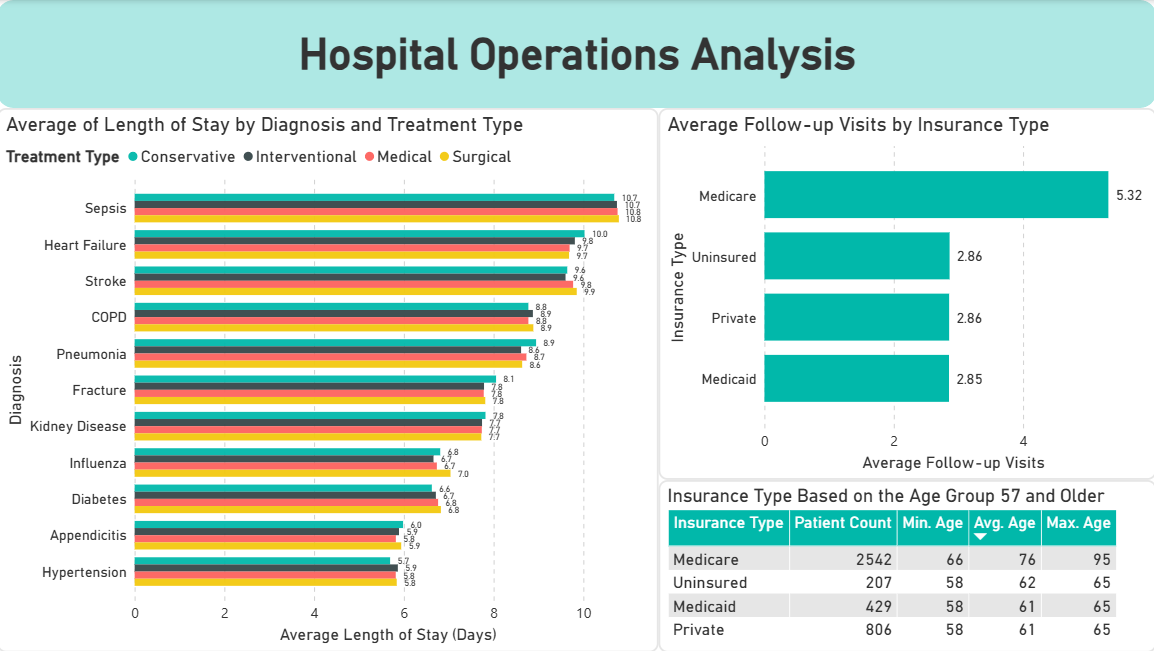

What the dashboard file says about the page in this screenshot:
{"tool":"powerbi","page":{"name":"Operational Analysis","canvas":[1280,720],"ordinal":2},"visuals":[{"type":"clusteredBarChart","title":"Average of Length of Stay by Diagnosis and Treatment Type","fields":{"Category":["ascend_quick_project hospital_data.primary_diagnosis"],"Y":["Avg(ascend_quick_project hospital_data.length_of_stay)"],"Series":["ascend_quick_project hospital_data.treatment_type"]},"box":[0,119.3,730.5,601.3],"z":0},{"type":"clusteredBarChart","title":"Average Follow-up Visits by Insurance Type","fields":{"Category":["ascend_quick_project hospital_data.insurance_type"],"Y":["Avg(ascend_quick_project hospital_data.followup_visits_last_year)"]},"box":[730.5,119.3,550,410.8],"z":1000},{"type":"tableEx","title":"Insurance Type Based on the Age Group 57 and Older","fields":{"Values":["insurance type ages.insurance_type","insurance type ages.patient_count","insurance type ages.min_age","insurance type ages.avg_age","insurance type ages.max_age"]},"box":[730.5,530.1,550,190.5],"z":2000},{"type":"shape","box":[0,0,1280.5,119.3],"z":3000},{"type":"textbox","box":[114.3,26.5,1053.5,66.3],"z":4000}]}

Visuals, with their boxes in screenshot pixels (x1, y1, x2, y2), scaled from the page's 1280x720 canvas onto the 1154x651 screenshot:
"Average of Length of Stay by Diagnosis and Treatment Type" clusteredBarChart: [x1=0, y1=108, x2=659, y2=650]
"Average Follow-up Visits by Insurance Type" clusteredBarChart: [x1=659, y1=108, x2=1153, y2=479]
"Insurance Type Based on the Age Group 57 and Older" tableEx: [x1=659, y1=479, x2=1153, y2=650]
shape: [x1=0, y1=0, x2=1153, y2=108]
textbox: [x1=103, y1=24, x2=1053, y2=84]
